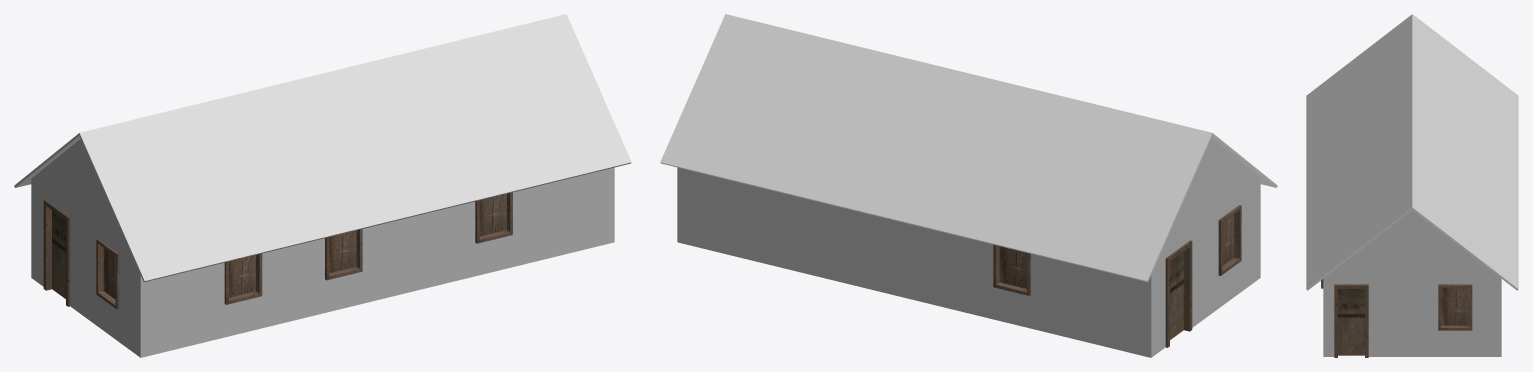
File: 11_casa_LOD0.fbx
3 views of the same model, side by side, from view 1: azimuth 30°, elevation 25°; view 2: azimuth 150°, elevation 25°; view 3: azimuth 270°, elevation 25° (orthographic). The views are drawn at different scales.
Parts seen in each view (by area): view 1: telhado, 11_casa-LOD0; view 2: telhado, 11_casa-LOD0; view 3: telhado, 11_casa-LOD0.
Boxes of the visible parts, bbox=[...] form: telhado: bbox=[14, 14, 631, 282]; 11_casa-LOD0: bbox=[31, 139, 614, 357]; telhado: bbox=[660, 14, 1277, 282]; 11_casa-LOD0: bbox=[677, 139, 1260, 357]; telhado: bbox=[1306, 14, 1518, 290]; 11_casa-LOD0: bbox=[1321, 210, 1501, 357].
Bounding box in the file's own units: 1028 × 376 × 477.
